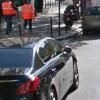Car: (3, 27, 87, 100)
